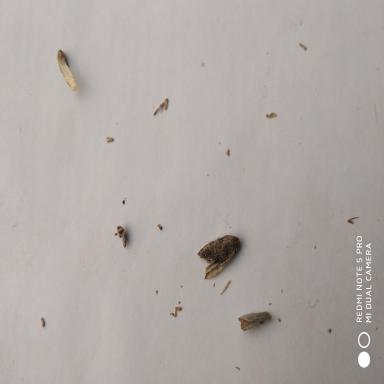pbw: (195, 232, 242, 282), (56, 46, 79, 94), (236, 308, 274, 333), (151, 94, 170, 119), (113, 223, 130, 250), (103, 133, 115, 145)
